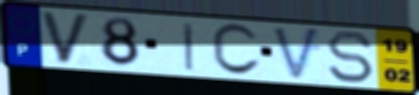8: (97, 15, 143, 69)
C: (209, 22, 264, 78)
I: (181, 21, 197, 73)
S: (324, 30, 376, 85)
V: (37, 9, 93, 66), (271, 25, 323, 83)
